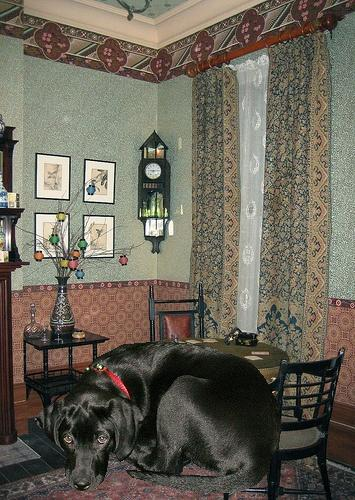tampered: (35, 343, 281, 493)
